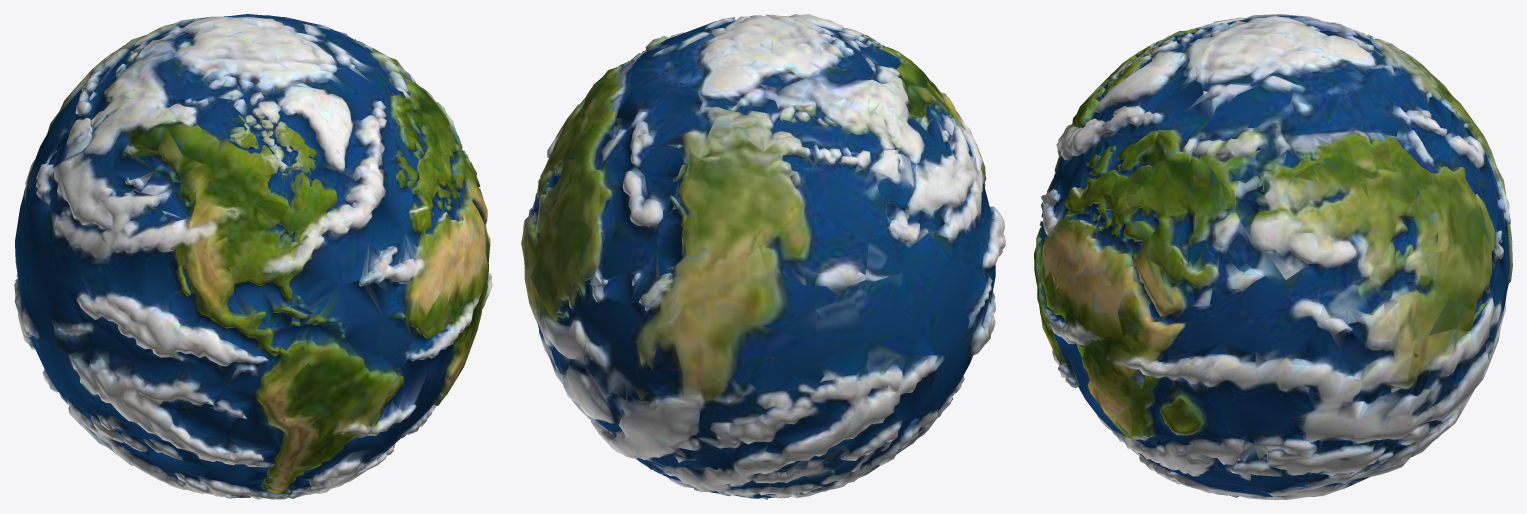
3 views of the same model, side by side, from view 1: azimuth 30°, elevation 25°; view 2: azimuth 150°, elevation 25°; view 3: azimuth 270°, elevation 25° (orthographic).
Bounding box in the file's own units: 1.84 × 1.9 × 1.87.
Materials: 1 (1 with a texture image).
